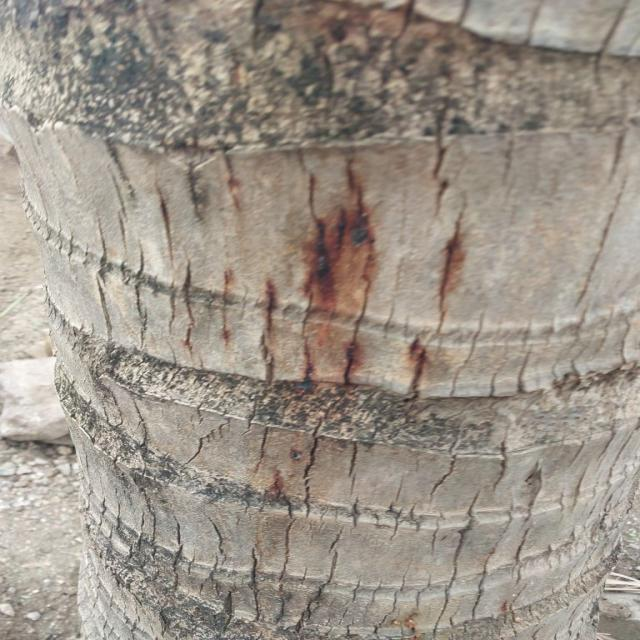stembleeding: (224, 188, 481, 542)
